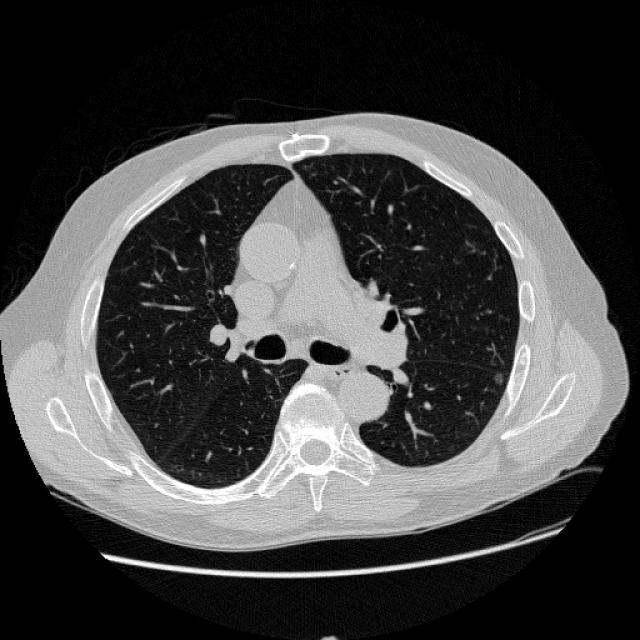nodule: (485, 365, 510, 390)
